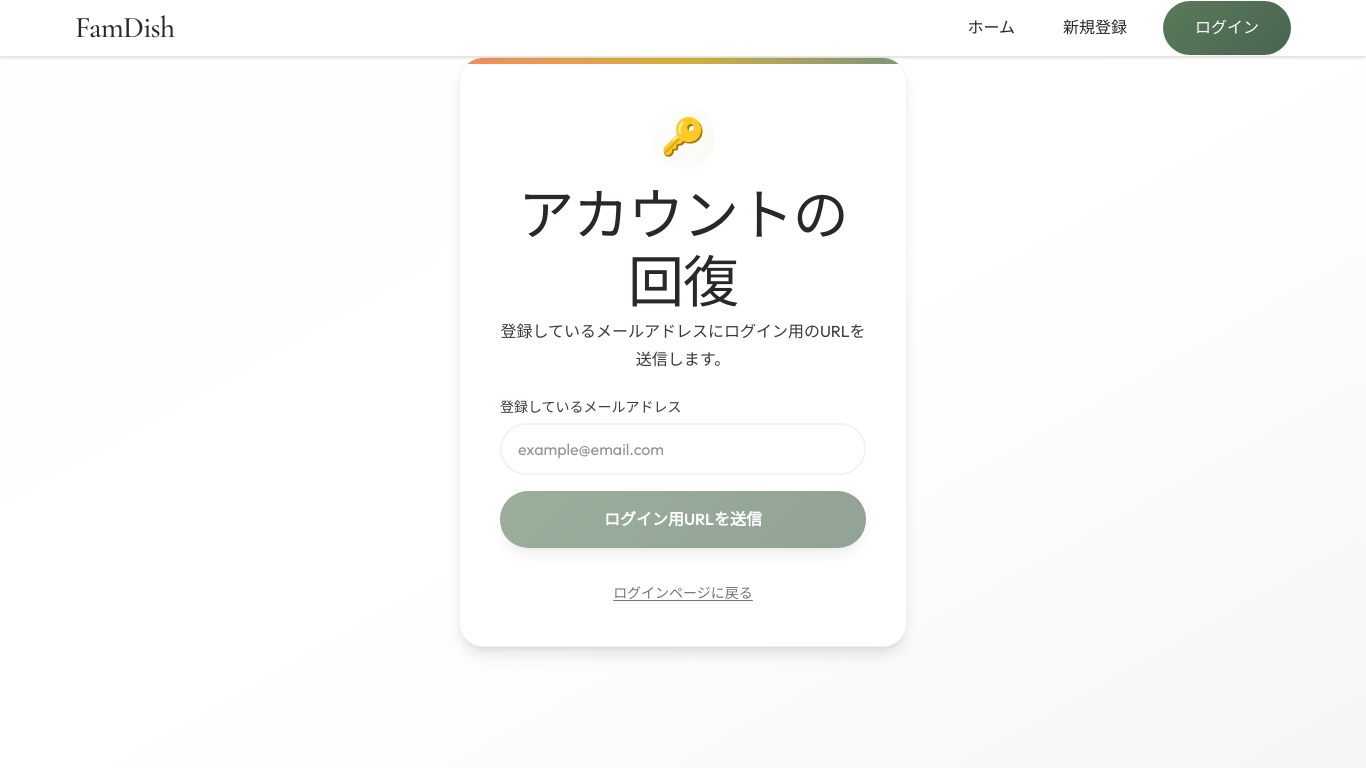
RecoveryPage › 送信失敗時にエラーメッセージを表示する
In the field with placeholder "example@email.com": (683, 449) 500,423 -> 866,475, type "bad@email.com"
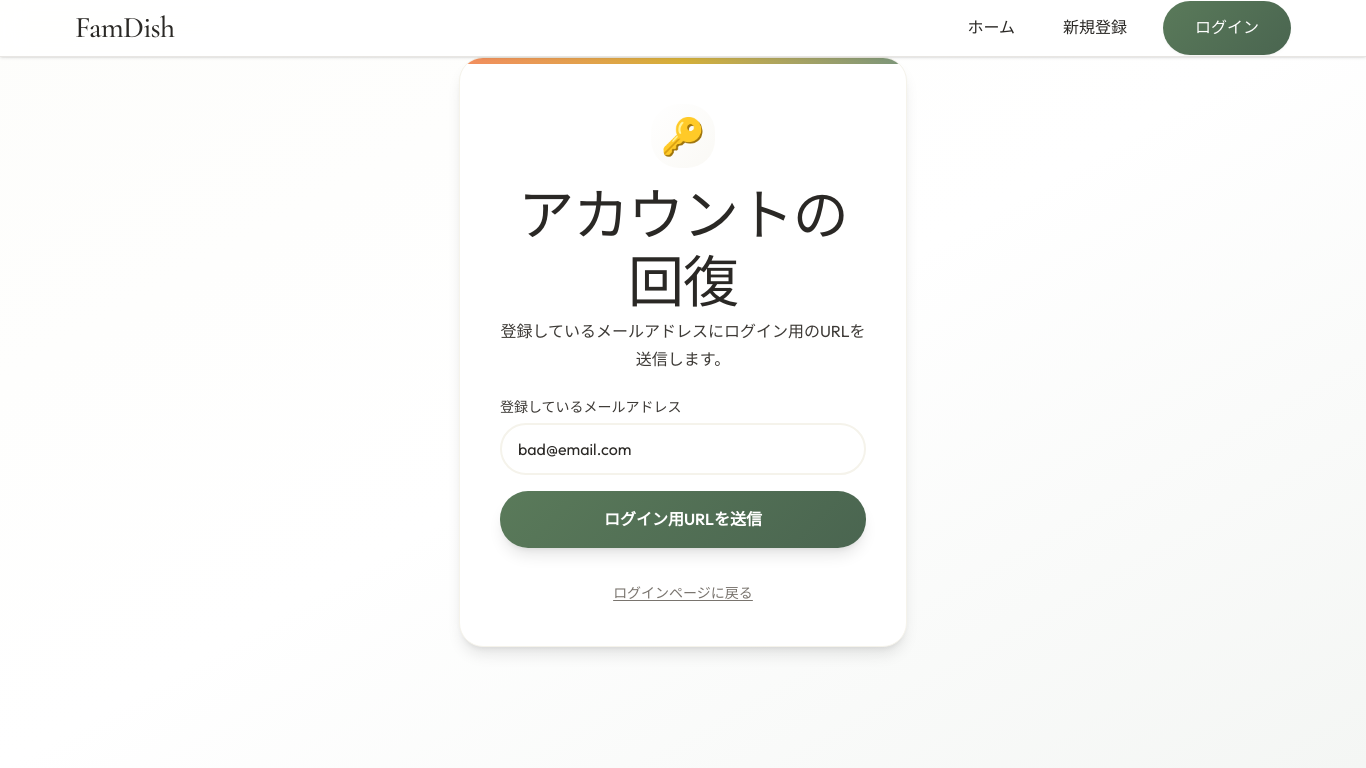
Click the button "ログイン用URLを送信": (683, 520) 500,491 -> 866,548
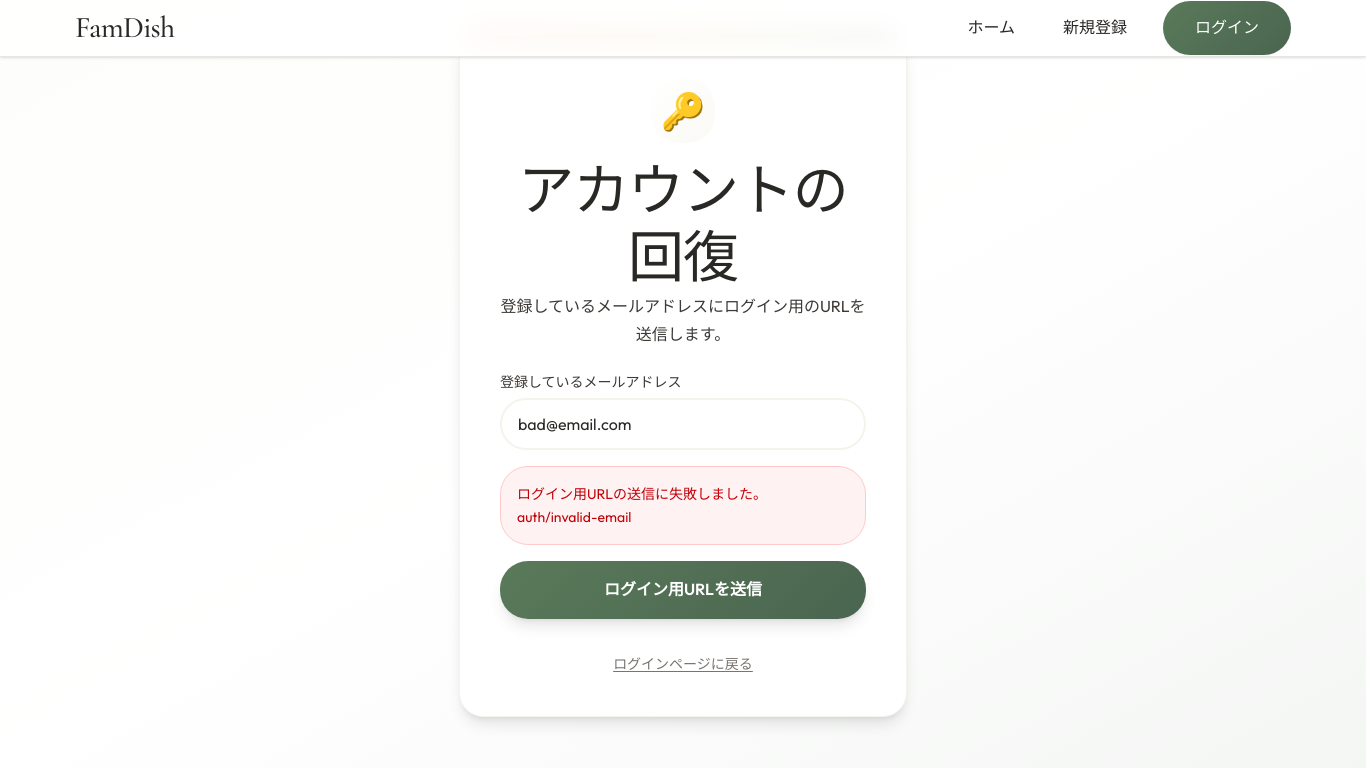
Result: the text "ログイン用URLの送信に失敗しました。 auth/invalid-email" is shown at 500,466 -> 866,545
